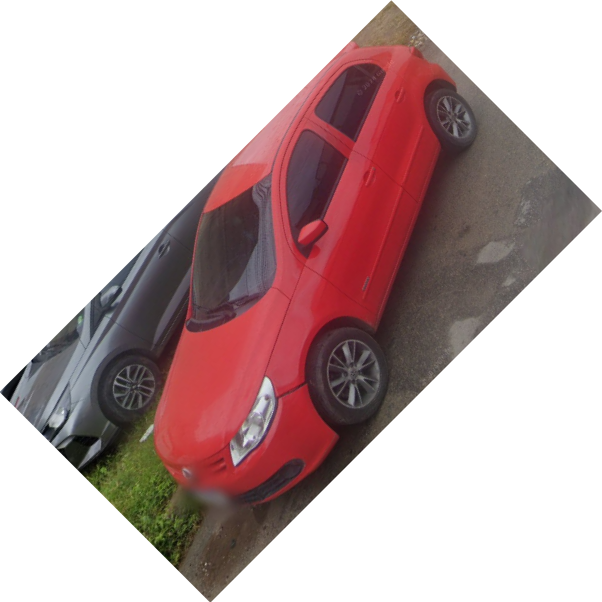car: (153, 38, 478, 517)
